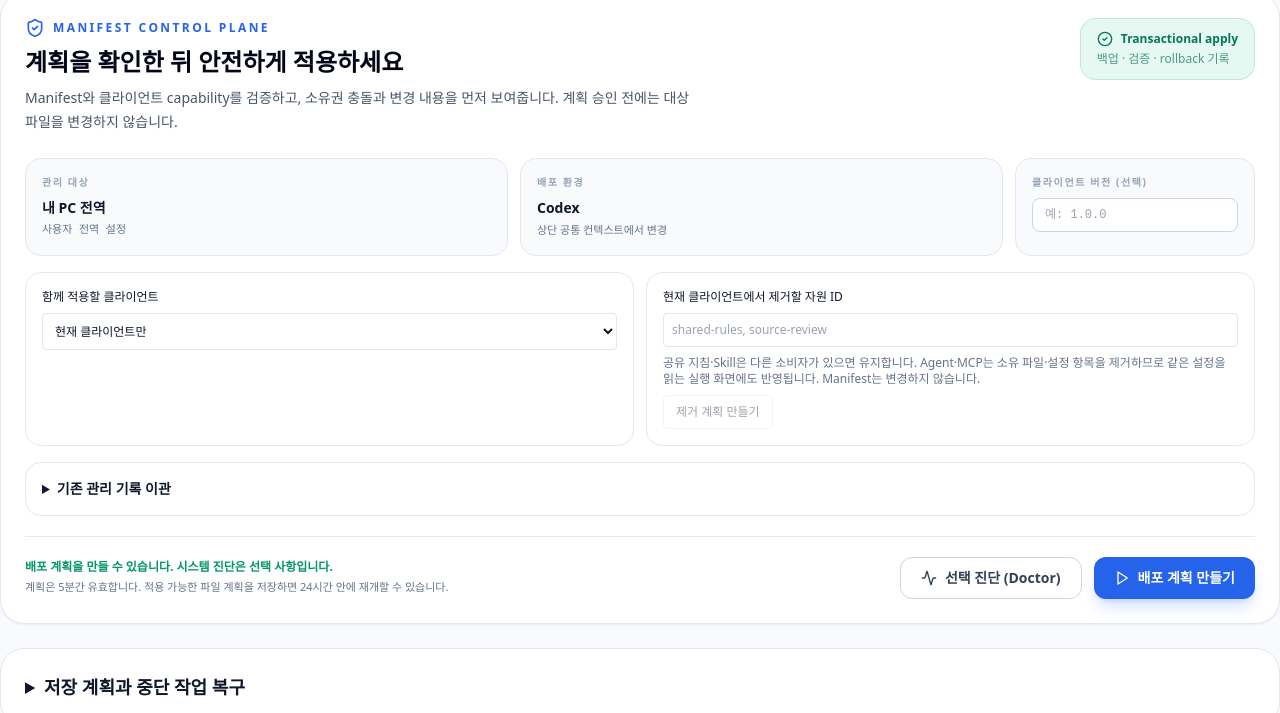
Scenario: ManifestDeploymentPanel readiness › shows the server request ID and remediation when planning fails
Click the button "배포 계획 만들기": (1174, 578) [1094,556,1255,598]
(page scrolled)
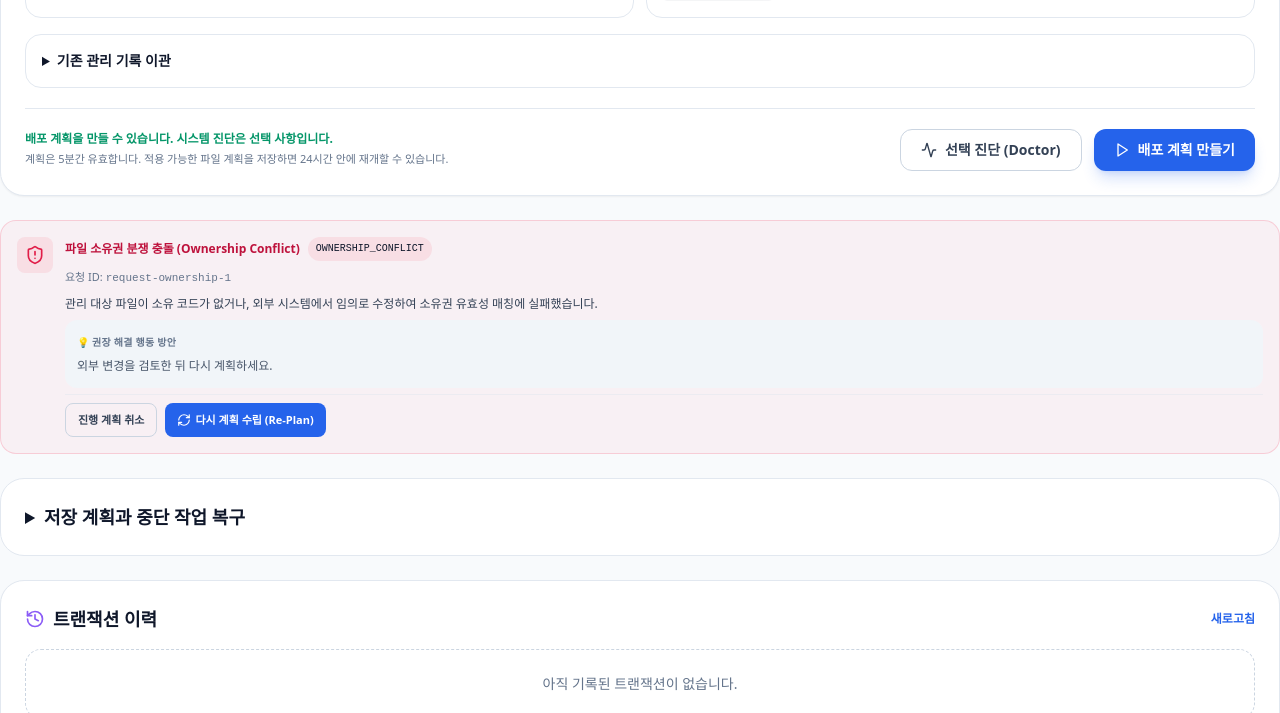
Expected: the text "request-ownership-1" is shown, [106,272,231,284]
Expected: the text "외부 변경을 검토한 뒤 다시 계획하세요." is shown, [77,356,272,374]
